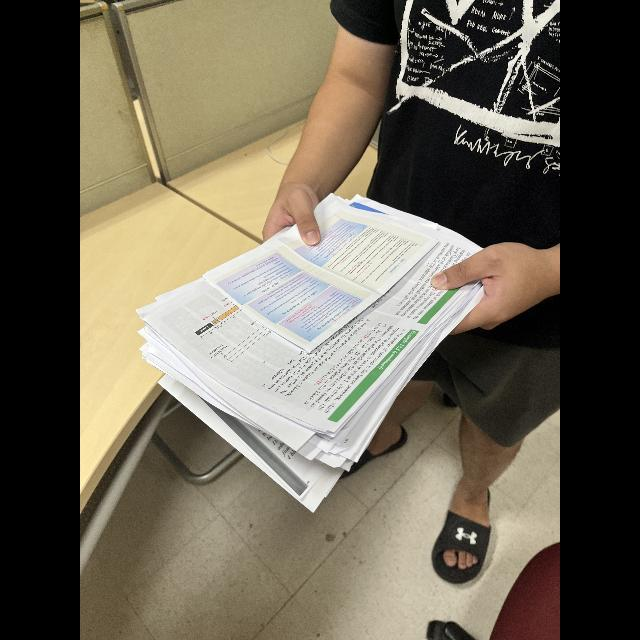reuseable_paper: (134, 183, 494, 521)
